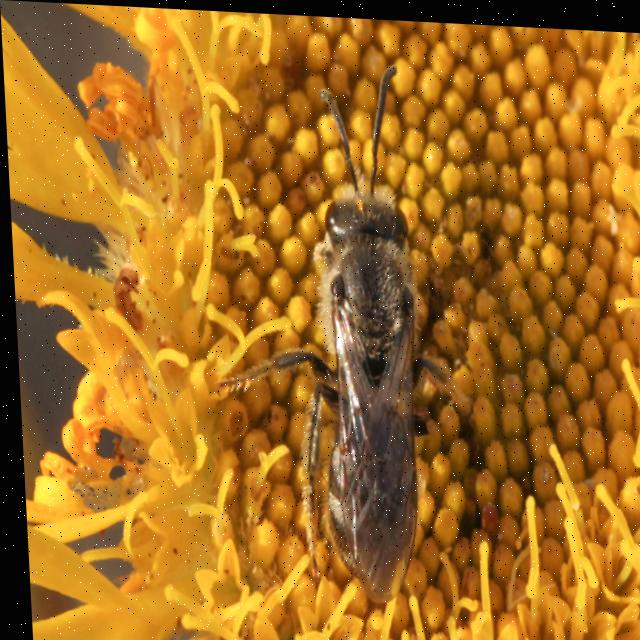Allodapula: (218, 41, 481, 627)
